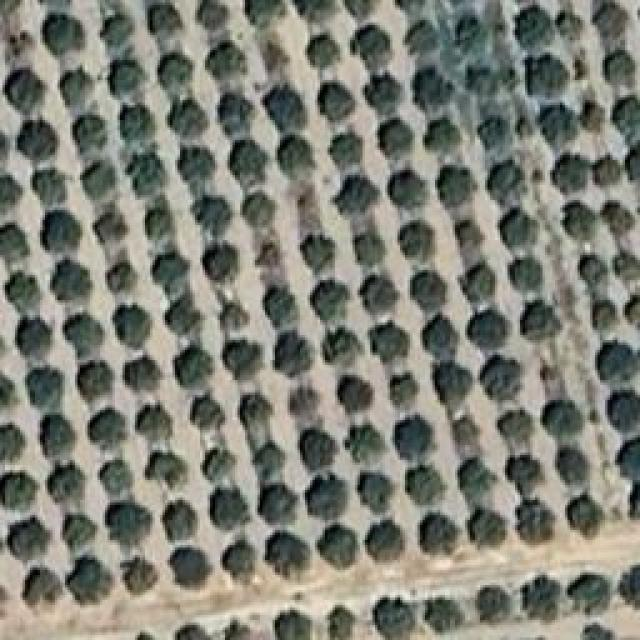Tree: (105, 500, 151, 552), (68, 555, 113, 605), (263, 85, 307, 133), (265, 533, 309, 579), (305, 473, 348, 520), (480, 355, 523, 402), (350, 25, 391, 73), (458, 458, 497, 508), (8, 517, 51, 562), (433, 363, 473, 411), (540, 103, 580, 150), (593, 0, 629, 52), (5, 70, 46, 115), (395, 415, 434, 462), (488, 160, 527, 207), (468, 310, 511, 352), (63, 314, 104, 358), (318, 525, 358, 570), (335, 175, 380, 215), (228, 140, 271, 181), (568, 573, 611, 614), (413, 68, 454, 111), (522, 575, 560, 621), (517, 500, 555, 546), (128, 154, 167, 198), (112, 305, 150, 350), (515, 5, 553, 50), (43, 15, 84, 56), (520, 300, 561, 341), (50, 258, 90, 300), (438, 165, 478, 207), (528, 55, 568, 97), (370, 323, 410, 365), (372, 597, 411, 640), (365, 520, 404, 563), (310, 280, 349, 323), (193, 195, 232, 238), (275, 334, 313, 378), (567, 494, 605, 538), (423, 315, 459, 361), (18, 120, 58, 161), (405, 465, 446, 505), (543, 400, 584, 440), (175, 345, 214, 387), (88, 408, 127, 450), (260, 483, 299, 525), (300, 430, 339, 472), (170, 550, 213, 588), (508, 455, 544, 500), (163, 295, 203, 335), (600, 343, 640, 383), (43, 214, 83, 254), (420, 513, 459, 554), (212, 488, 250, 530), (410, 270, 448, 312), (25, 370, 63, 412), (40, 415, 75, 460), (223, 340, 262, 380), (360, 275, 399, 315), (388, 170, 427, 210), (468, 507, 507, 547), (323, 327, 362, 367), (163, 500, 199, 543), (278, 135, 314, 178), (365, 73, 401, 116), (47, 462, 85, 502), (208, 43, 248, 81), (345, 422, 383, 462), (500, 208, 538, 248), (145, 453, 186, 490), (153, 253, 189, 295), (23, 568, 62, 606), (553, 155, 592, 193), (425, 598, 465, 635), (460, 263, 496, 304), (5, 273, 40, 315), (18, 318, 53, 360), (218, 93, 253, 135), (263, 288, 298, 330), (170, 98, 208, 136), (120, 558, 158, 596), (135, 405, 173, 443), (398, 222, 434, 262), (612, 95, 640, 146), (253, 443, 286, 486), (83, 160, 118, 200), (158, 54, 193, 94), (120, 105, 155, 145), (300, 235, 335, 275), (607, 392, 640, 434), (33, 168, 70, 205), (3, 473, 39, 511), (125, 355, 163, 391), (78, 364, 112, 404), (555, 445, 589, 485), (93, 208, 128, 246), (203, 245, 238, 283), (338, 375, 373, 413), (320, 83, 355, 121), (378, 118, 413, 156), (455, 15, 488, 55), (363, 473, 394, 515), (425, 118, 461, 154), (73, 115, 108, 152), (190, 395, 225, 432), (478, 588, 513, 625), (60, 68, 94, 106), (223, 540, 257, 578), (0, 223, 30, 265), (178, 148, 214, 183), (100, 460, 134, 497), (330, 133, 364, 170), (110, 60, 144, 96), (203, 448, 237, 484), (63, 515, 97, 551), (243, 193, 277, 229), (510, 258, 544, 294), (100, 12, 134, 47), (308, 35, 342, 70), (603, 202, 637, 237), (565, 203, 596, 240), (240, 394, 273, 428), (405, 20, 438, 54), (498, 413, 533, 445), (355, 230, 386, 266), (605, 50, 636, 86), (478, 118, 511, 151), (578, 255, 608, 291), (275, 612, 313, 640), (108, 260, 138, 295), (617, 437, 640, 482), (150, 5, 183, 36), (145, 207, 174, 242), (390, 372, 419, 407), (0, 422, 25, 462), (327, 605, 355, 640), (245, 0, 281, 27), (198, 0, 229, 31), (290, 388, 320, 420), (593, 154, 622, 186), (293, 0, 335, 22), (0, 175, 22, 215), (220, 302, 249, 332), (468, 68, 499, 96), (620, 565, 640, 608), (452, 415, 480, 445), (455, 220, 484, 248), (0, 373, 19, 414), (593, 300, 618, 331), (580, 100, 604, 132), (615, 253, 640, 283), (560, 12, 584, 42), (580, 620, 615, 640), (622, 145, 640, 180), (255, 243, 279, 269), (175, 625, 210, 640), (225, 620, 251, 640), (345, 0, 373, 18), (625, 295, 640, 328)
